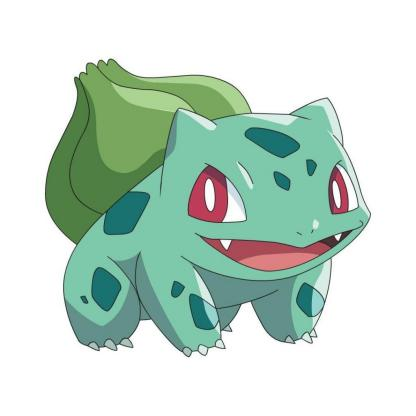Bulbasaur: (41, 51, 386, 365)
